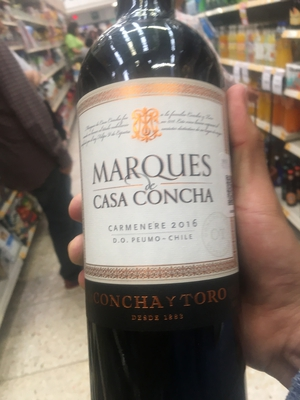marques de casa concha carmenere: (68, 8, 242, 368)
